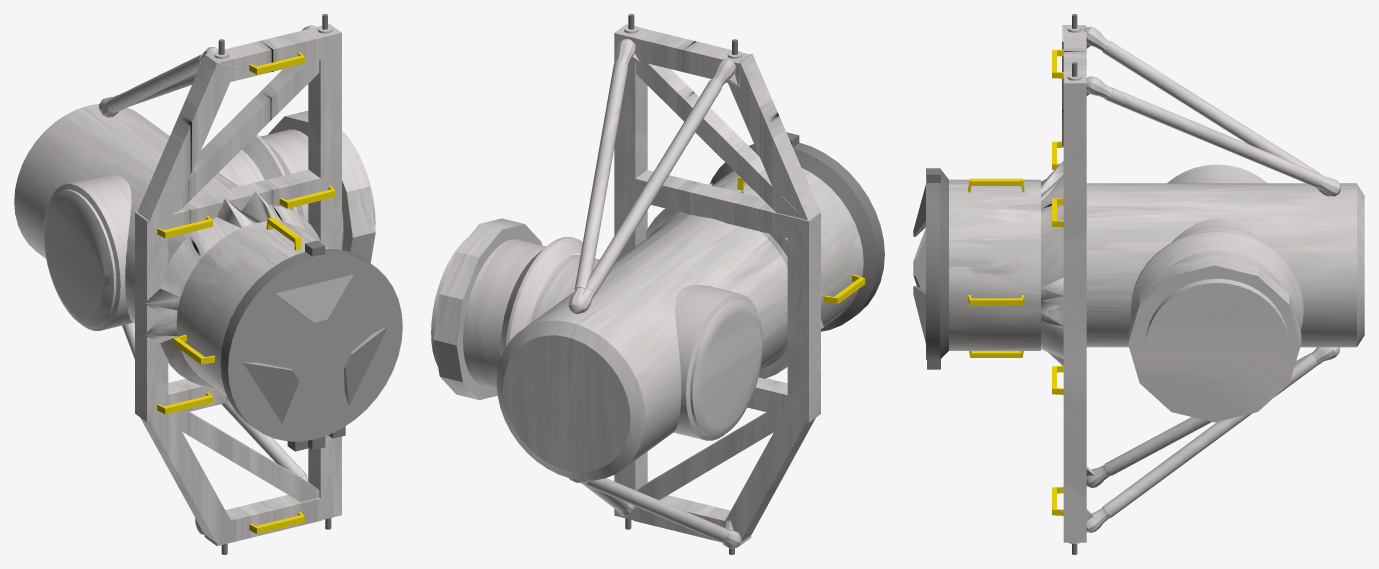
File: docking-system.glb
3 views of the same model, side by side, from view 1: azimuth 30°, elevation 25°; view 2: azimuth 150°, elevation 25°; view 3: azimuth 270°, elevation 25° (orthographic). The views are drawn at different scales.
Visible parts, largest first — view 1: ods.layer1; view 2: ods.layer1; view 3: ods.layer1.
Part boxes in pixels (x1,y1,x2,y2): ods.layer1: (14, 14, 402, 554); ods.layer1: (431, 14, 884, 554); ods.layer1: (913, 14, 1364, 554).
Bounding box in the file's own units: 107 × 192 × 160.
Materials: 4 (1 with a texture image).
